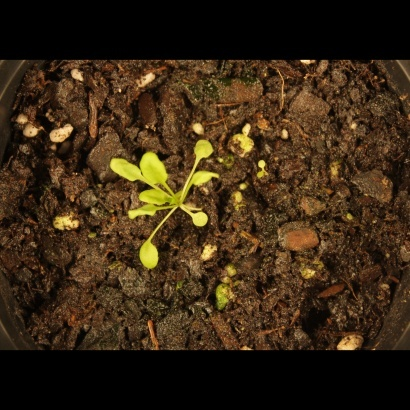leaf: (135, 235, 165, 277), (106, 150, 143, 184), (139, 147, 169, 187), (191, 135, 220, 164), (140, 184, 172, 207), (191, 169, 222, 192), (128, 204, 158, 227), (190, 208, 216, 232)
